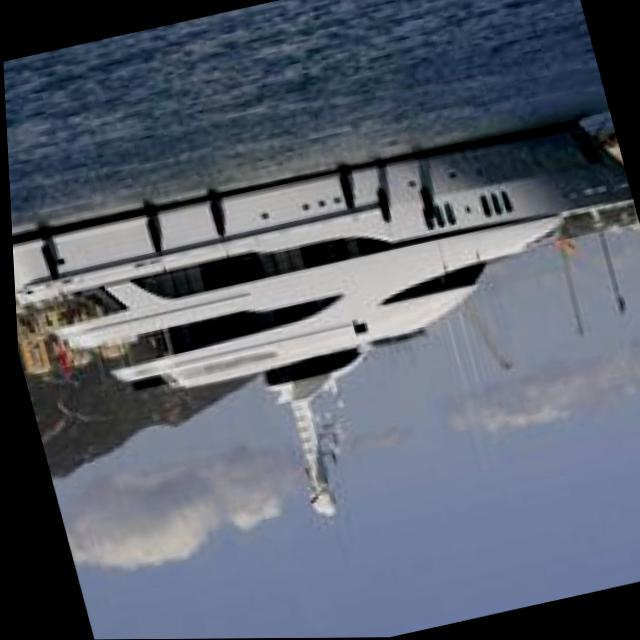ship2: (9, 120, 631, 515)
